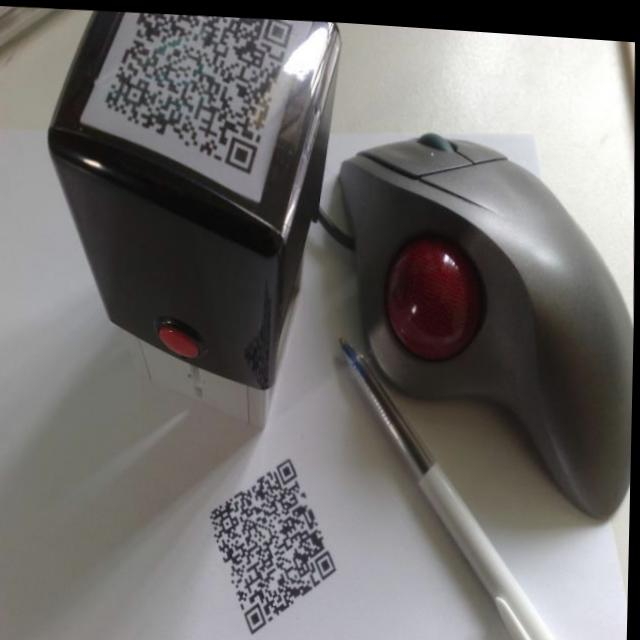qrcode: (104, 8, 297, 176), (210, 450, 342, 637)
